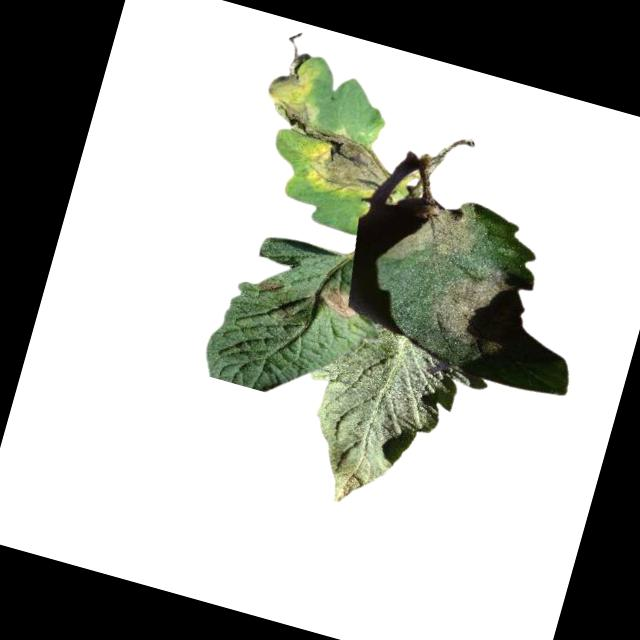Late_blight: (384, 183, 488, 281), (417, 259, 522, 356), (297, 125, 401, 207), (257, 45, 332, 139), (311, 283, 363, 322), (252, 273, 283, 298)
healthy: (275, 311, 495, 532)
